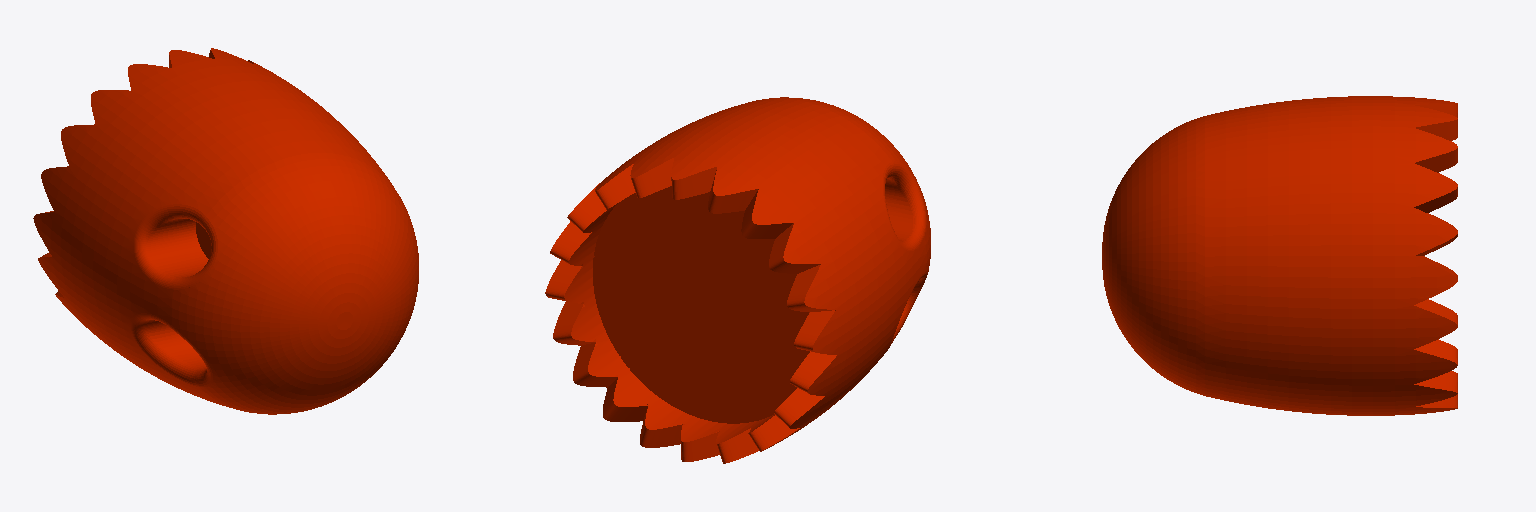
The model's file is ghost_3.obj.
3 views of the same model, side by side, from view 1: azimuth 30°, elevation 25°; view 2: azimuth 150°, elevation 25°; view 3: azimuth 270°, elevation 25° (orthographic).
Visible parts, largest first — view 1: Body_Pac_Man_Ghost.002; view 2: Body_Pac_Man_Ghost.002; view 3: Body_Pac_Man_Ghost.002.
Part boxes in pixels (left/top/right/bottom): Body_Pac_Man_Ghost.002: left=33, top=48, right=418, bottom=414; Body_Pac_Man_Ghost.002: left=545, top=97, right=930, bottom=463; Body_Pac_Man_Ghost.002: left=1102, top=96, right=1457, bottom=415.
Size of the model in its own units: 1.71 by 1.71 by 1.9.